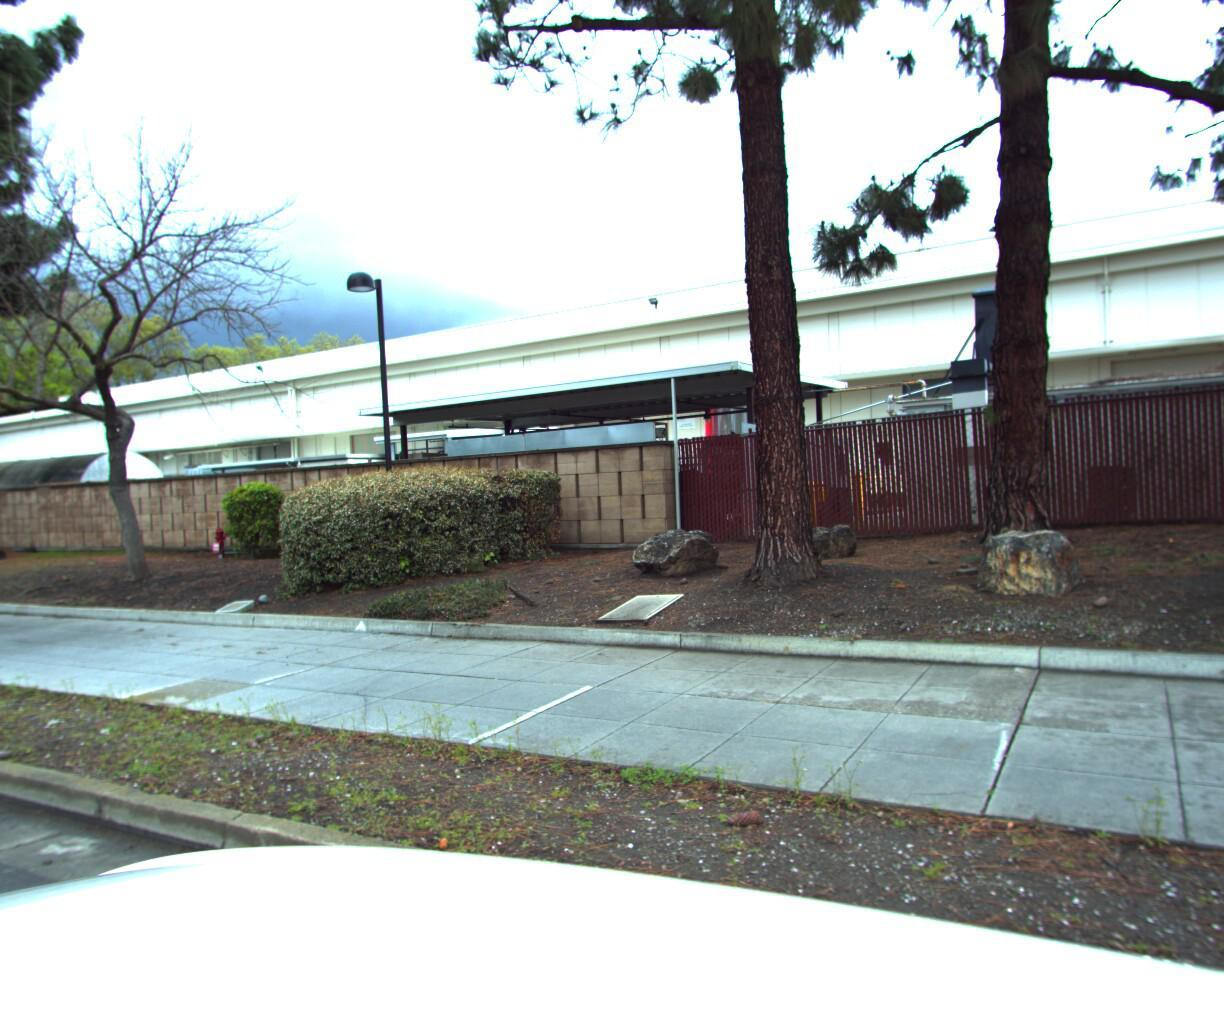truck: (0, 471, 70, 562)
